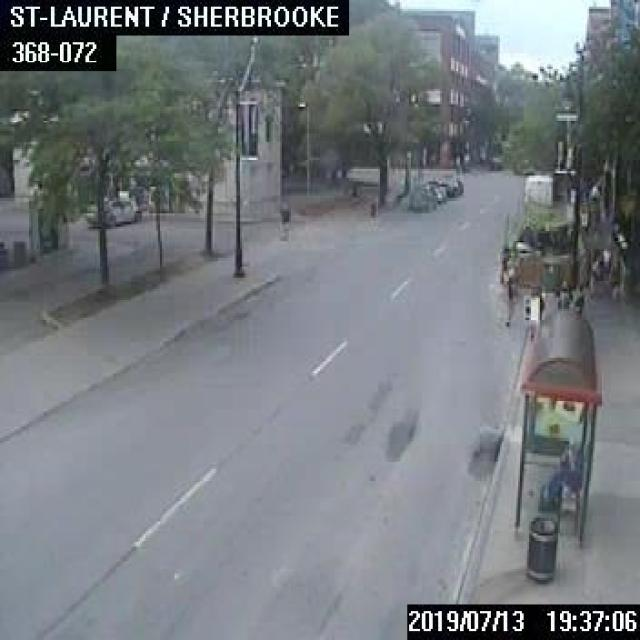pedestrian: (536, 436, 580, 504), (501, 263, 518, 322), (554, 275, 570, 307), (568, 283, 584, 312), (277, 200, 289, 238)
vehicle: (84, 189, 142, 227), (522, 174, 551, 208), (404, 185, 434, 211), (437, 170, 462, 194), (422, 177, 444, 202)
